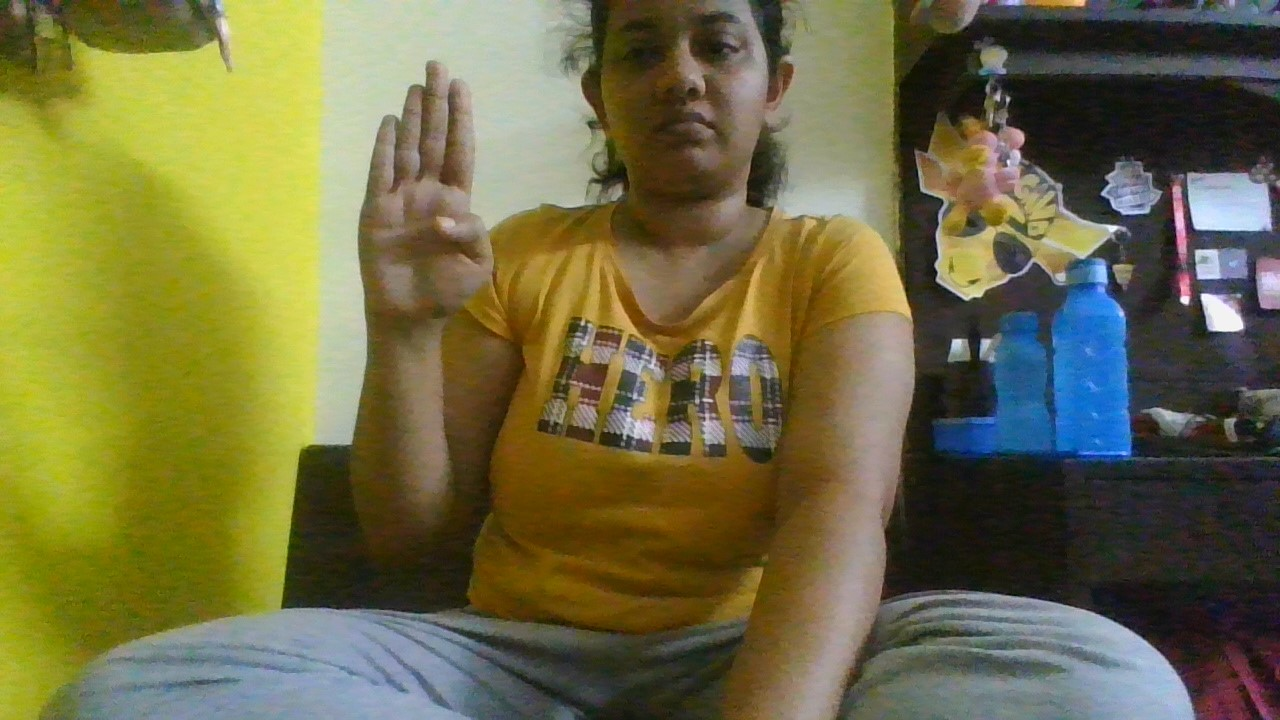b: (344, 59, 513, 349)
